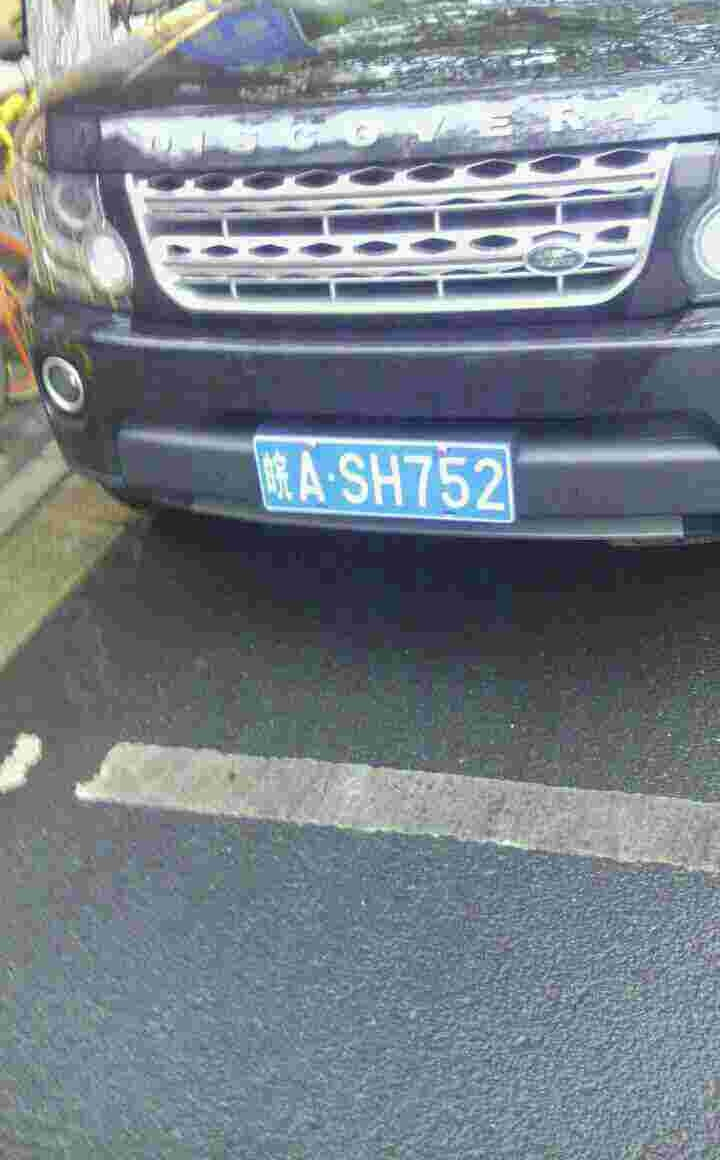plate: (249, 430, 522, 528)
